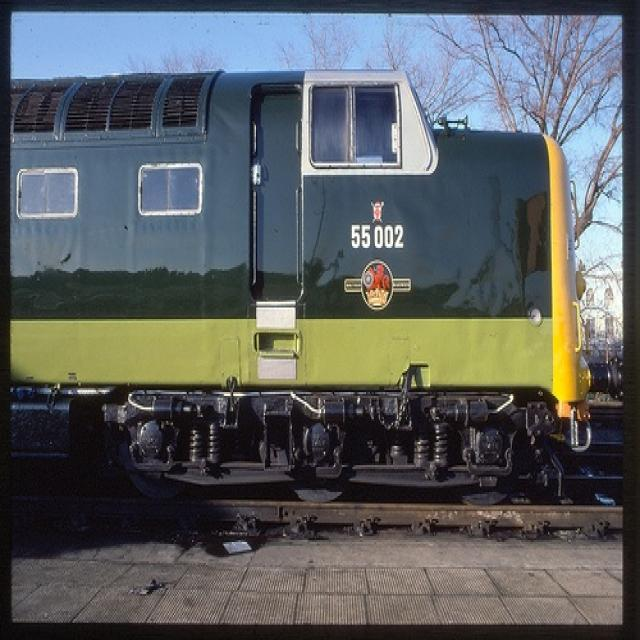train: (0, 63, 596, 511)
